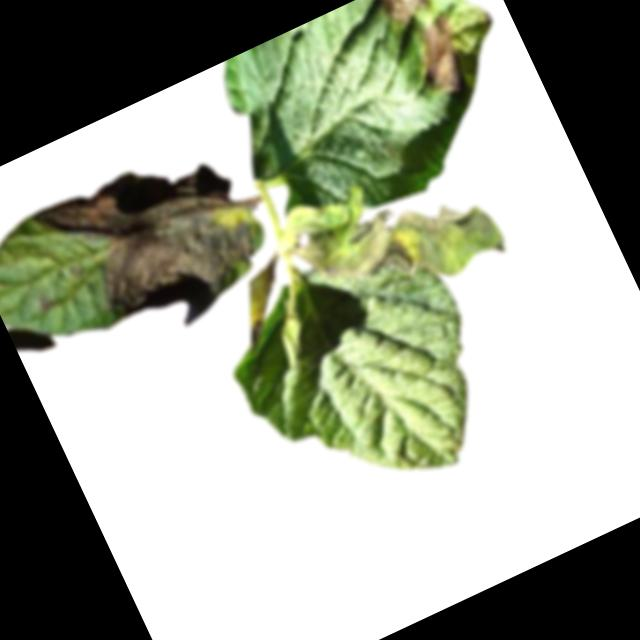Late_blight: (31, 131, 281, 366), (276, 129, 513, 332), (405, 9, 483, 103), (371, 1, 435, 34), (35, 294, 59, 318)
healthy: (209, 223, 519, 534)
